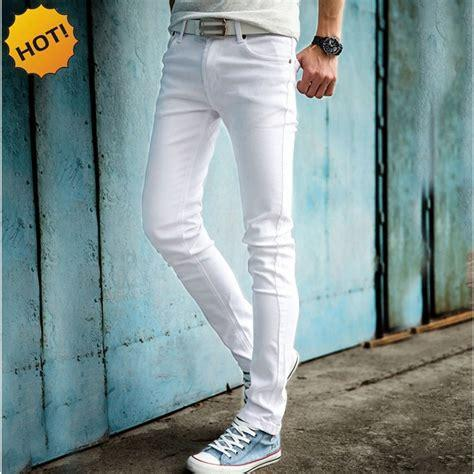pants: (142, 20, 301, 438)
